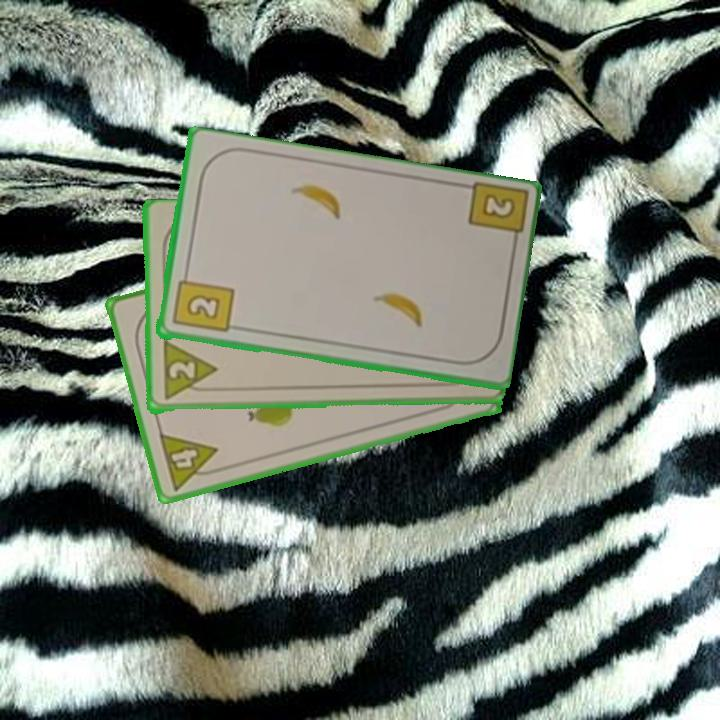2b: (463, 180, 527, 253), (169, 268, 236, 336)
2p: (159, 340, 219, 403)
4p: (155, 429, 225, 493)
